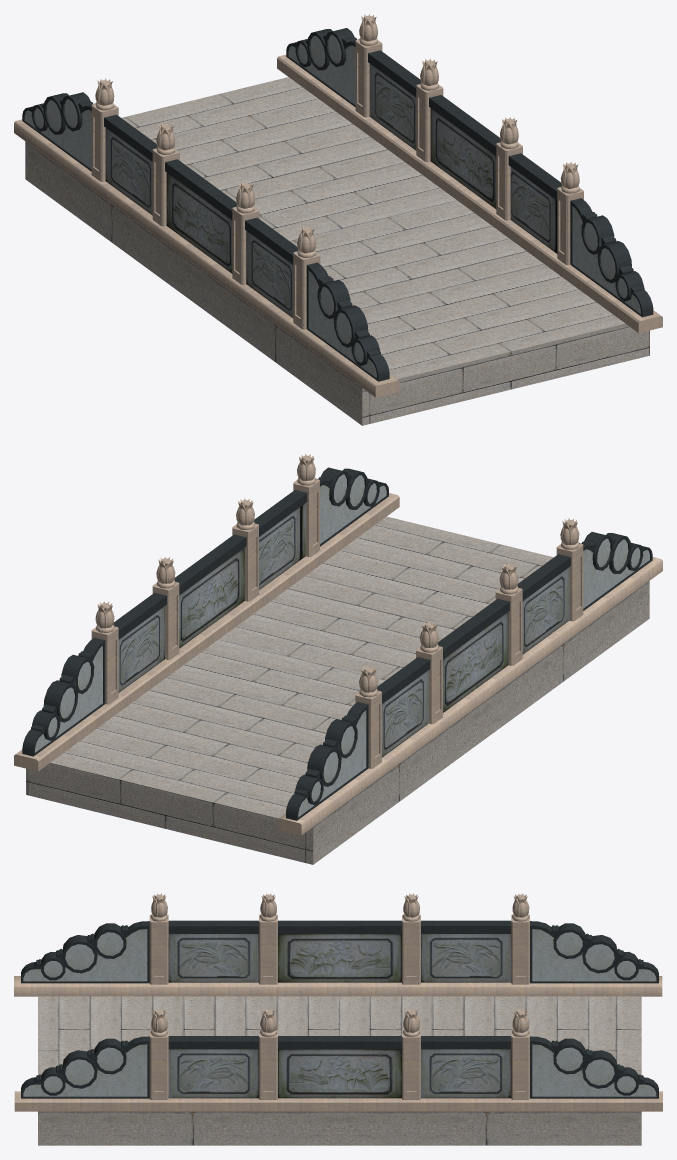
File: Building_Bridge01.FBX
3 renders of one model, top to bottom at view 1: azimuth 30°, elevation 25°; view 2: azimuth 150°, elevation 25°; view 3: azimuth 270°, elevation 25°, orthographic. The views are drawn at different scales.
Parts seen in each view (by area): view 1: Building_Bridge01; view 2: Building_Bridge01; view 3: Building_Bridge01.
Boxes of the visible parts, x1=… form: Building_Bridge01: x1=14, y1=14, x2=662, y2=425; Building_Bridge01: x1=14, y1=454, x2=662, y2=864; Building_Bridge01: x1=14, y1=893, x2=662, y2=1145.
Bounding box in the file's own units: 317 × 151 × 691.
